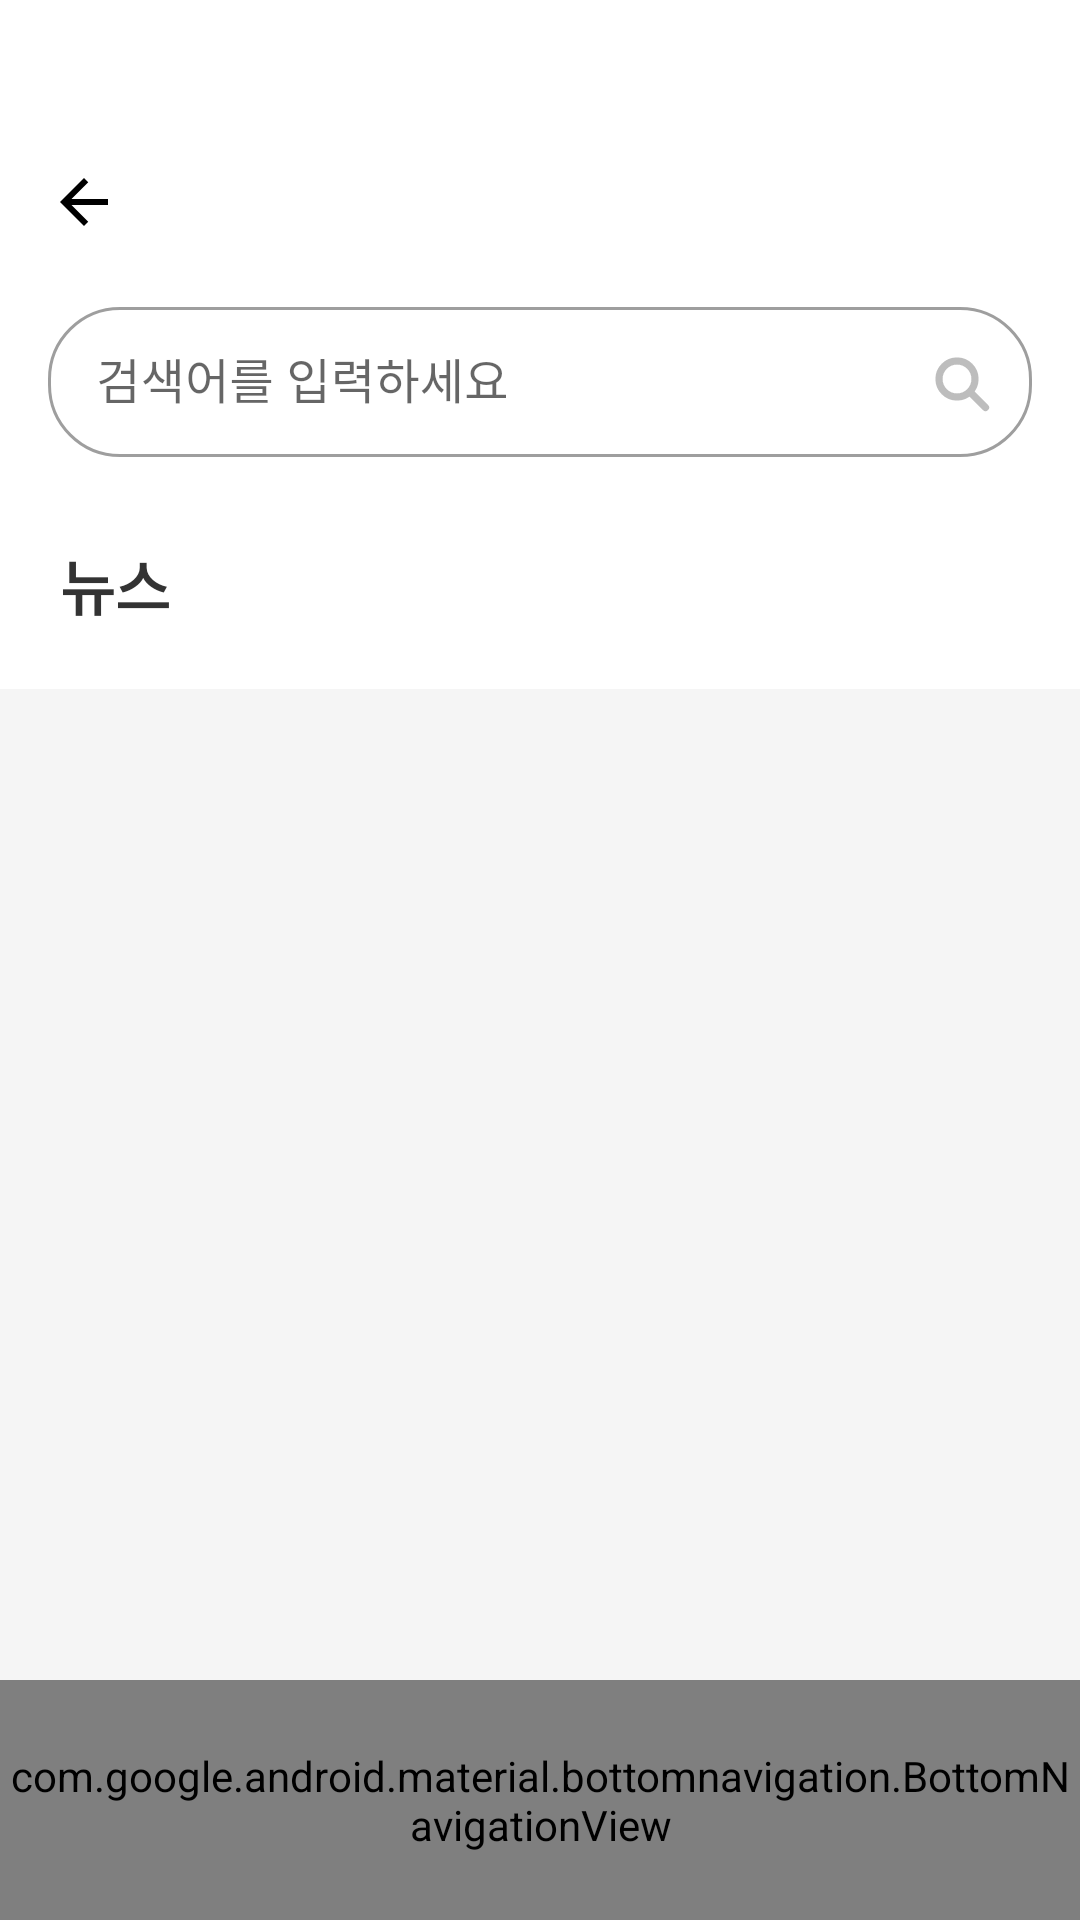

Icon click points for this 1080w x 1920h phone screenshot, format [x,y]:
arrow back: [84,202]
